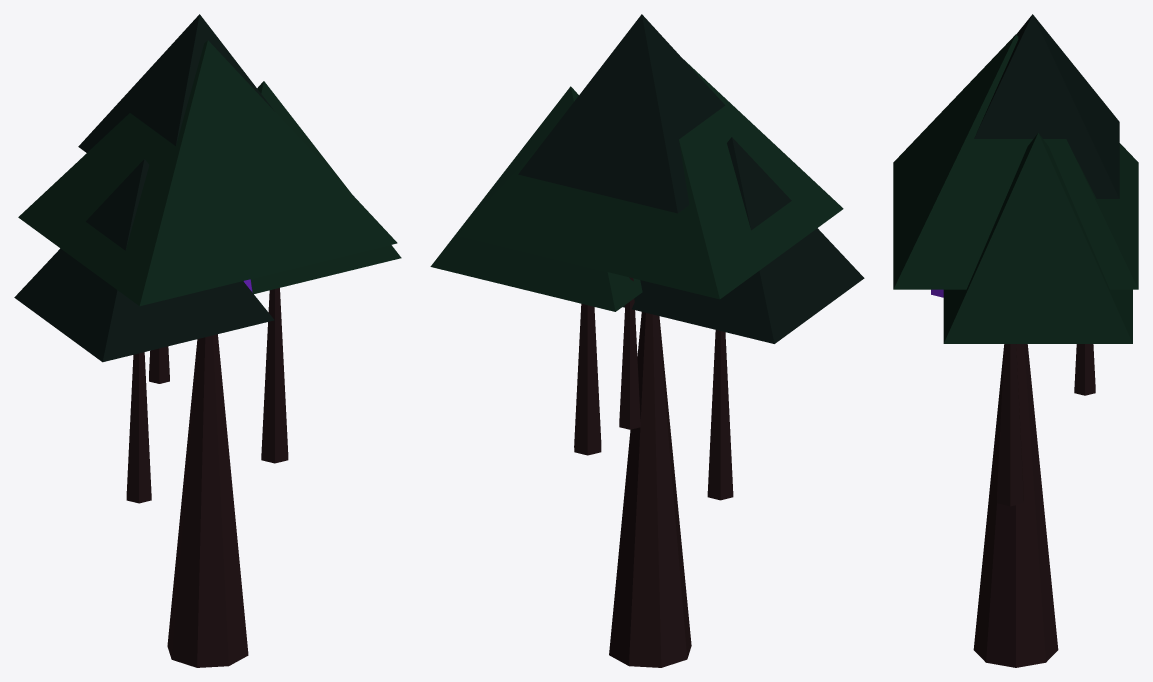
Rendered from ancient_tree.obj.
3 views of the same model, side by side, from view 1: azimuth 30°, elevation 25°; view 2: azimuth 150°, elevation 25°; view 3: azimuth 270°, elevation 25° (orthographic).
Visible parts, largest first — view 1: AncientTree; view 2: AncientTree; view 3: AncientTree.
Boxes of the visible parts, x1,y1,x2,y2 form: AncientTree: [14, 14, 401, 667]; AncientTree: [430, 14, 864, 667]; AncientTree: [893, 14, 1138, 667].
Bounding box in the file's own units: 3.3 × 6.3 × 2.2.
